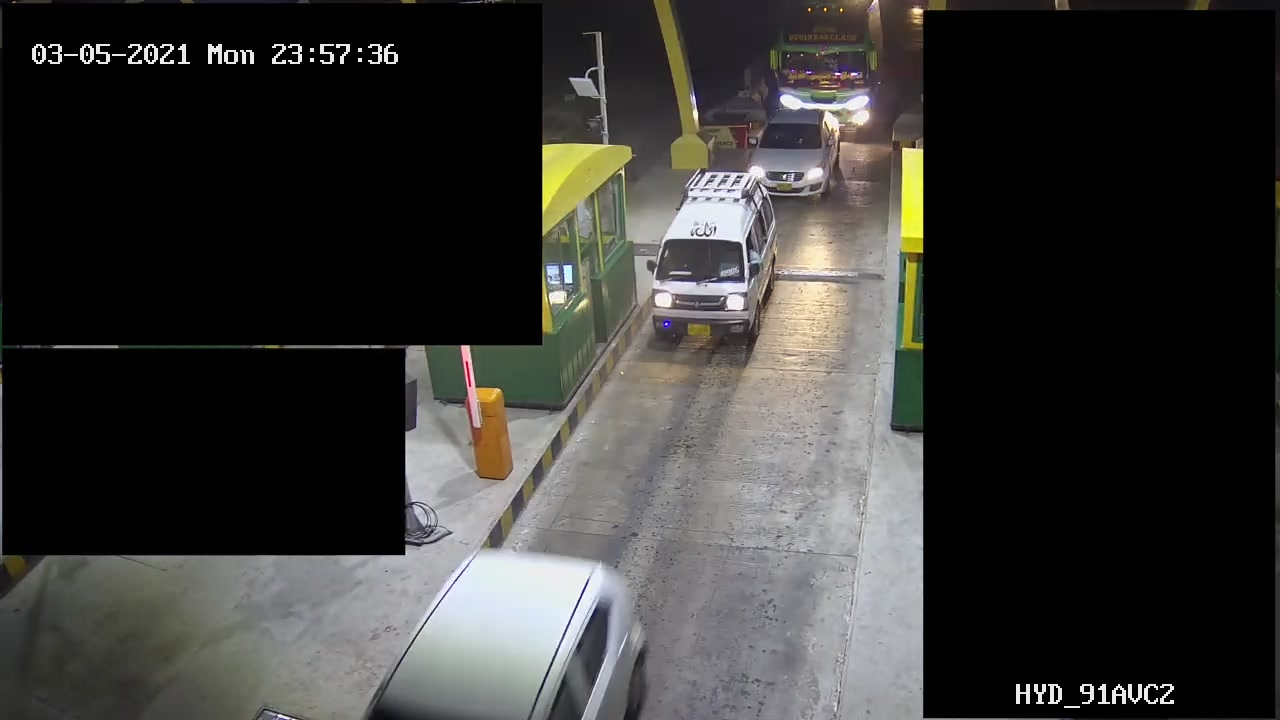F1: (637, 168, 775, 348), (733, 107, 854, 195)
